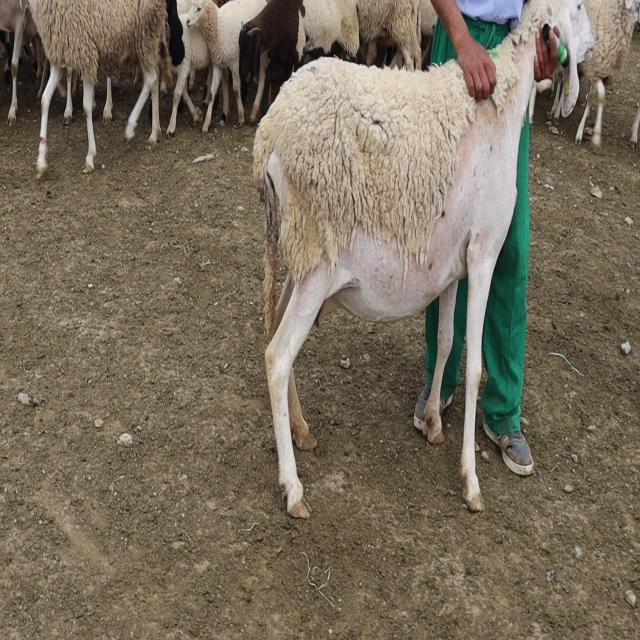Score_2: (253, 0, 594, 517)
